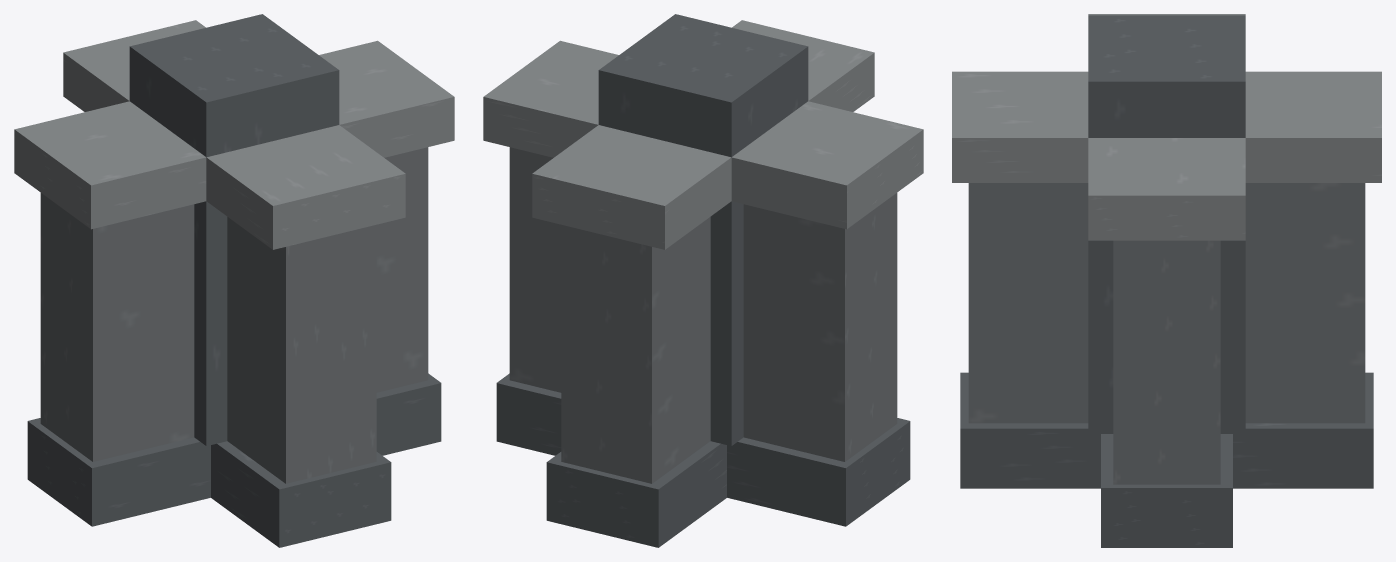
File: Wall_Corner.obj
3 views of the same model, side by side, from view 1: azimuth 30°, elevation 25°; view 2: azimuth 150°, elevation 25°; view 3: azimuth 270°, elevation 25° (orthographic). The views are drawn at different scales.
Parts seen in each view (by area): view 1: Wall_Corner; view 2: Wall_Corner; view 3: Wall_Corner.
Part boxes in pixels (box(x1,y1,x2,y2)): Wall_Corner: box(14, 14, 454, 547); Wall_Corner: box(483, 14, 923, 547); Wall_Corner: box(952, 14, 1381, 547).
Size of the model in its own units: 1.04 by 1.1 by 1.04.
